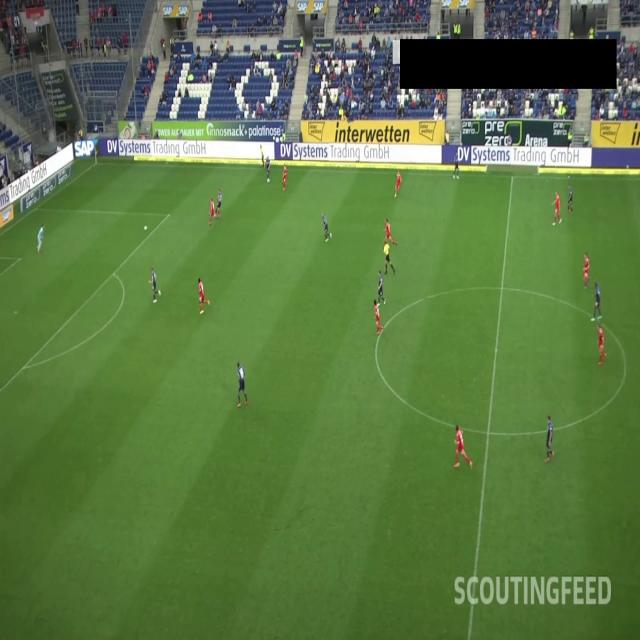ball: (144, 225, 148, 232)
player: (454, 422, 474, 473), (544, 413, 557, 466), (236, 361, 248, 410), (383, 216, 397, 254), (148, 266, 161, 306), (197, 276, 210, 316), (598, 321, 608, 369), (551, 189, 563, 228), (373, 299, 385, 338), (320, 212, 333, 245), (582, 252, 592, 293), (594, 280, 604, 320), (36, 223, 46, 255), (376, 267, 384, 304), (393, 168, 402, 200), (263, 152, 272, 184), (452, 152, 462, 180), (566, 182, 574, 216), (280, 162, 288, 194), (215, 189, 224, 217), (208, 196, 216, 226)
